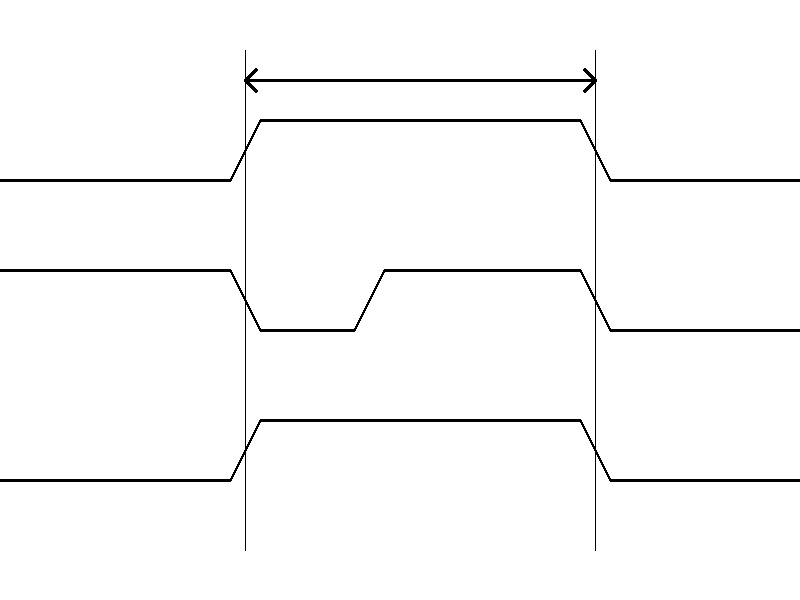double_arrow: (245, 65, 595, 95)
